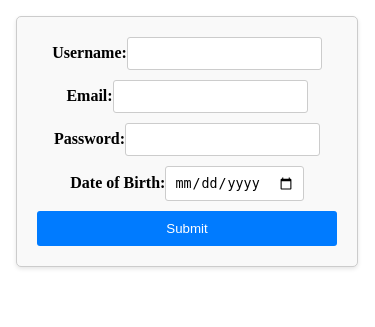
Registration form validation › should display validation error for invalid email
Type "somename" into the field named "username" next to "Username:".
click(225, 54); type("somename")  # box [127, 37, 322, 70]
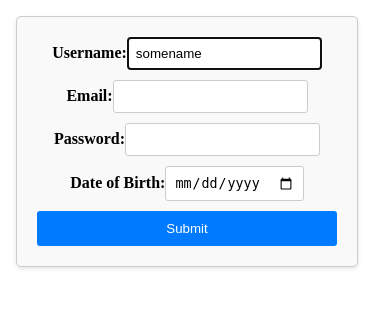
Type "invalid-email" into the field named "email" next to "Email:".
click(211, 97); type("invalid-email")  # box [113, 80, 308, 113]
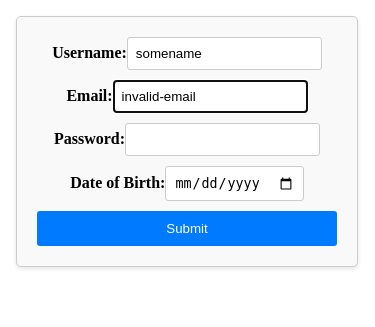
Type "1234567" into the password field named "password".
click(223, 140); type("1234567")  # box [125, 123, 320, 156]
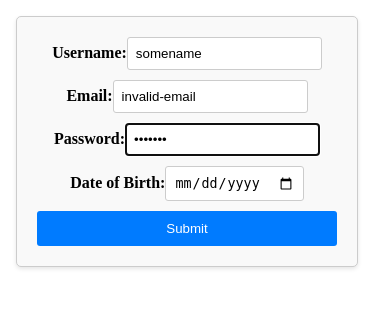
Type "1994-01-01" into the date field named "dob".
click(234, 184); type("1994-01-01")  # box [165, 166, 303, 201]
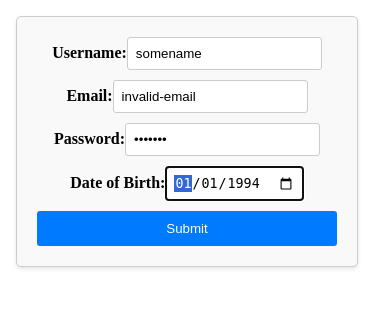
Click the button "Submit".
click(187, 229)  # box [37, 211, 337, 246]
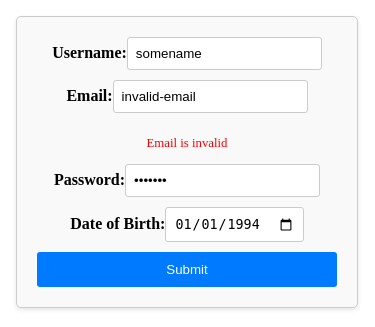
Expected: the text "Email is invalid" is shown, [146, 136, 228, 150]
Expected: the text with class "error" reads "Email is invalid", [146, 136, 227, 150]
